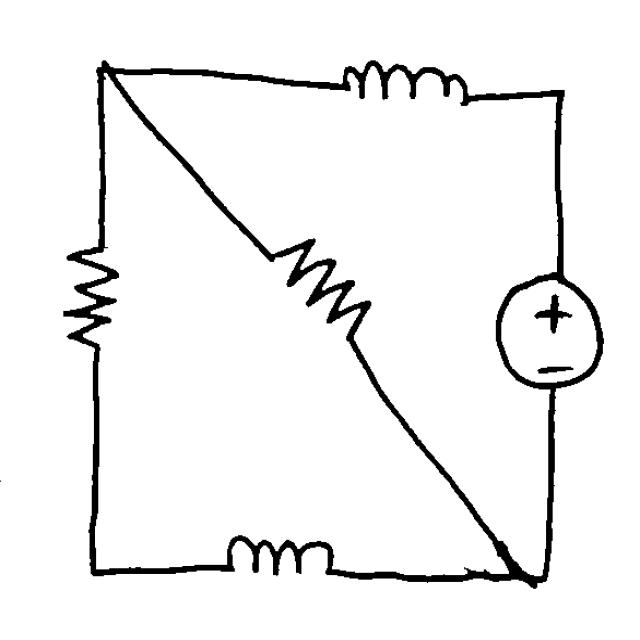dc: (482, 265, 612, 393)
inductor: (316, 56, 488, 124), (215, 530, 351, 600)
resistor: (264, 230, 380, 348), (52, 234, 126, 363)
